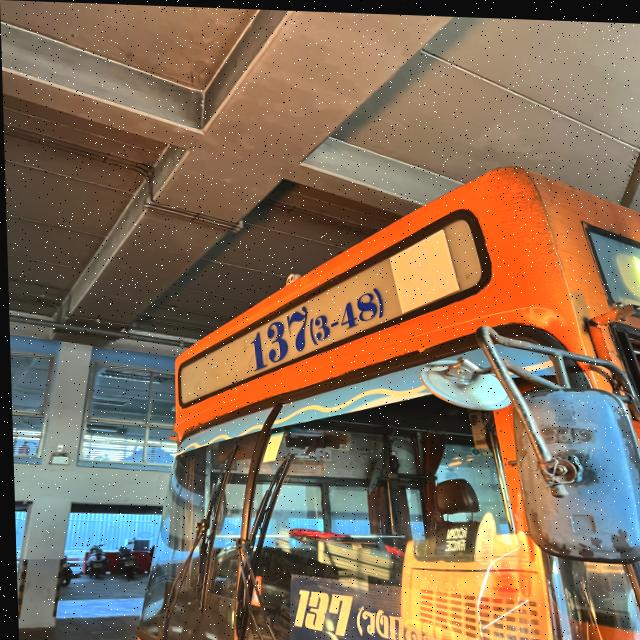BMTA-bus: (137, 163, 640, 640)
Bus Line Number: (240, 265, 392, 374)
Destination Sign: (283, 572, 459, 640)
